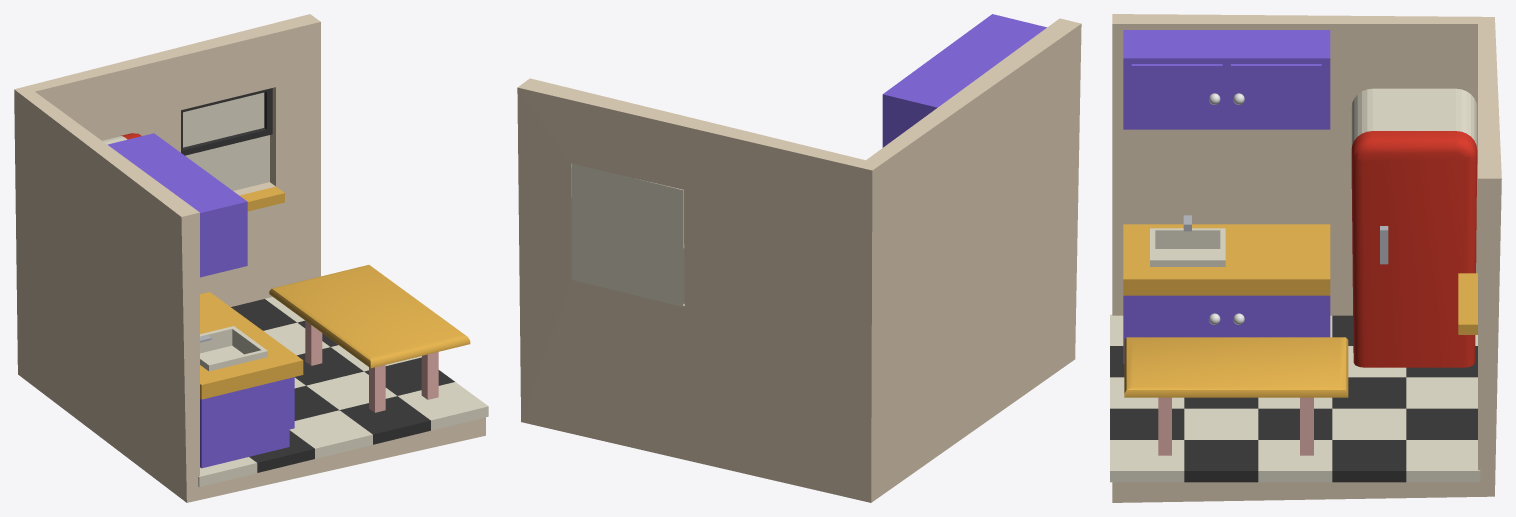
Rendered from room.gltf.
The picture shows the model from 3 angles, left to right: view 1: azimuth 30°, elevation 25°; view 2: azimuth 150°, elevation 25°; view 3: azimuth 270°, elevation 25°; orthographic projection. The views are drawn at different scales.
Visible parts, largest first — view 1: wall, floor, desktop, Plane.007, window, Plane.003, Plane.004, Cube.001, deskleg3, deskleg4, window_desk, deskleg1; view 2: wall, window, Plane.007; view 3: wall, floor, Plane.006, desktop, Plane.004, Plane.008, Plane.007, Plane.005, Plane.002, Cube.001, Plane.003, window_desk (+2 smaller).
Boxes of the visible parts, <box> form: wall: <box>14,14,485,502</box>; floor: <box>198,297,488,487</box>; desktop: <box>269,265,470,368</box>; Plane.007: <box>108,133,247,277</box>; window: <box>181,88,272,190</box>; Plane.003: <box>200,378,289,468</box>; Plane.004: <box>200,292,303,399</box>; Cube.001: <box>200,326,267,371</box>; deskleg3: <box>421,352,438,399</box>; deskleg4: <box>369,365,385,412</box>; window_desk: <box>239,186,284,211</box>; deskleg1: <box>305,321,322,365</box>; wall: <box>517,18,1081,502</box>; window: <box>571,163,684,306</box>; Plane.007: <box>882,14,1046,147</box>; wall: <box>1112,14,1501,502</box>; floor: <box>1110,314,1480,482</box>; Plane.006: <box>1351,131,1477,367</box>; desktop: <box>1124,337,1348,397</box>; Plane.004: <box>1123,224,1330,295</box>; Plane.008: <box>1131,64,1321,126</box>; Plane.007: <box>1123,30,1330,129</box>; Plane.005: <box>1131,295,1321,337</box>; Plane.002: <box>1351,88,1477,149</box>; Cube.001: <box>1150,228,1225,266</box>; Plane.003: <box>1123,295,1330,364</box>; window_desk: <box>1458,273,1477,334</box>.
Bounding box in the file's own units: 6.45 × 5.89 × 6.45.
